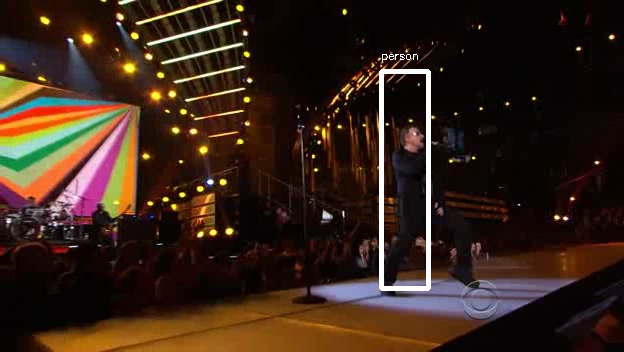person: (389, 132, 452, 243), (386, 132, 449, 243), (392, 132, 455, 243), (389, 129, 452, 240), (389, 135, 452, 246)
target_negative: (104, 31, 186, 347), (447, 131, 552, 319), (533, 115, 553, 234), (559, 68, 609, 105), (539, 51, 556, 86), (611, 303, 614, 339)
